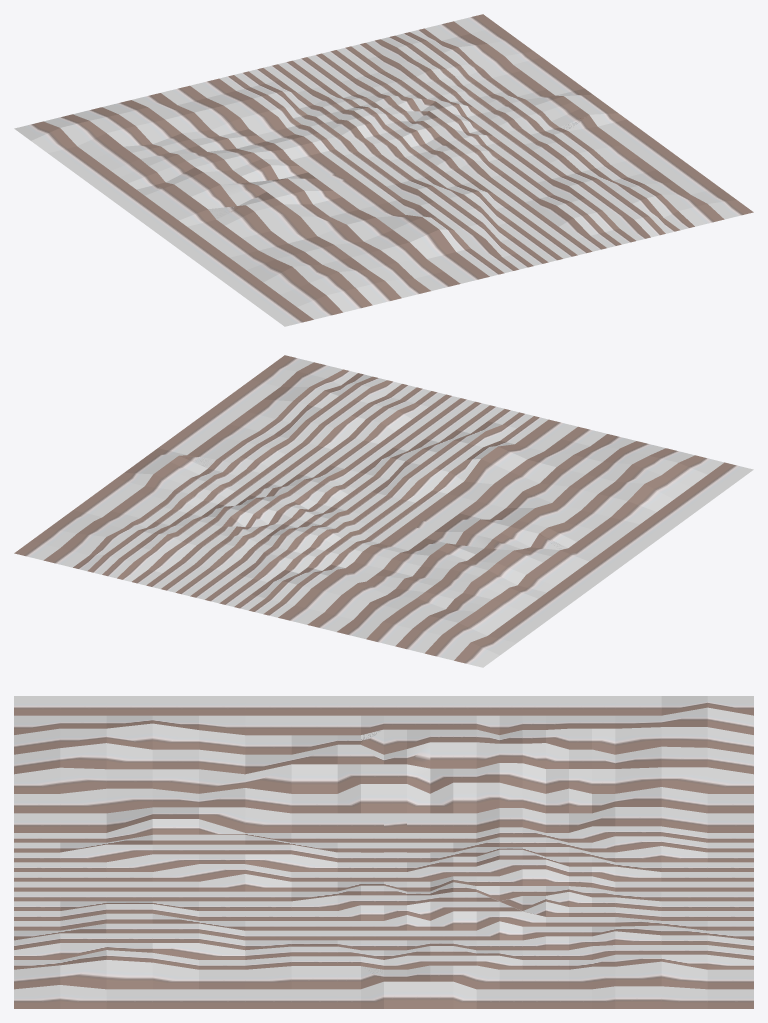
Rendered from terrain_level3.glb.
3 renders of one model, top to bottom at view 1: azimuth 30°, elevation 25°; view 2: azimuth 150°, elevation 25°; view 3: azimuth 270°, elevation 25°, orthographic. The views are drawn at different scales.
Visible parts, largest first — view 1: Plane; view 2: Plane; view 3: Plane.
Boxes of the visible parts, x1,y1,x2,y2 form: Plane: [14, 14, 753, 326]; Plane: [14, 355, 753, 667]; Plane: [14, 696, 753, 1008].
Size of what is drawn, in the model's own units: 32 by 0.663 by 32.
1 material, 1 textured.
